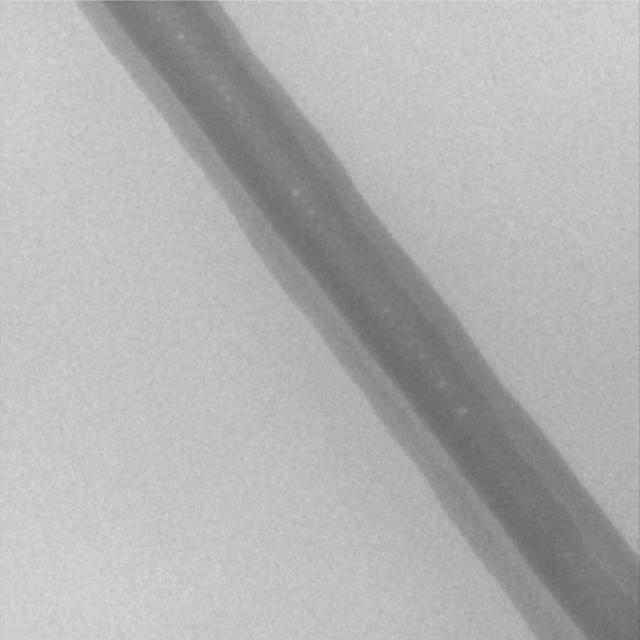air hole: (175, 31, 185, 43), (289, 188, 301, 198), (458, 408, 468, 417)
